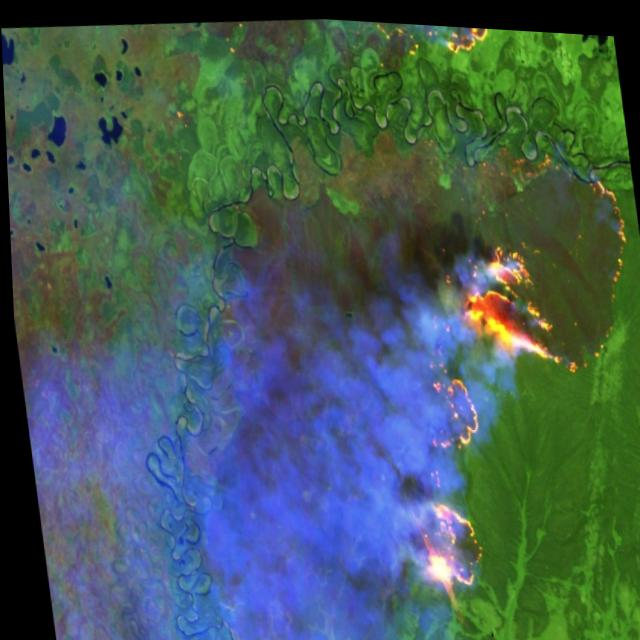fire: (356, 121, 640, 603), (371, 17, 496, 69)
